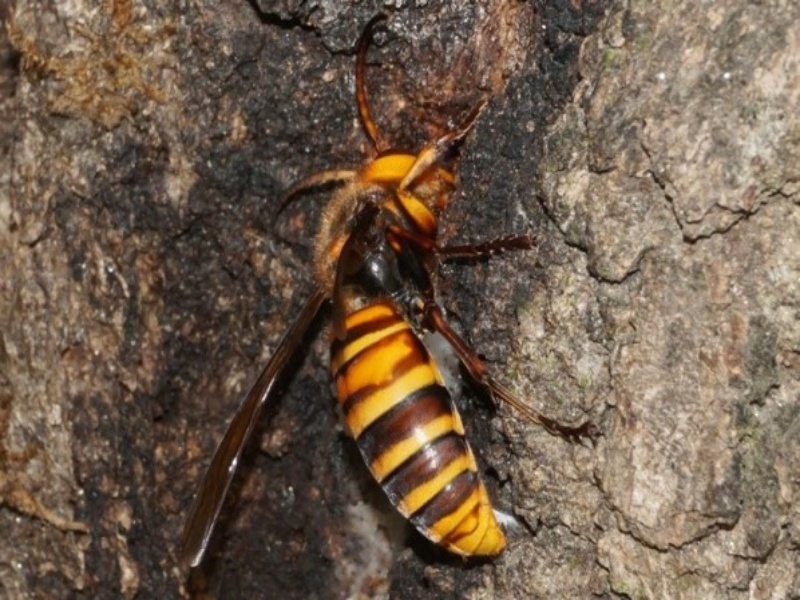asian_giant_hornet: (308, 122, 514, 562)
